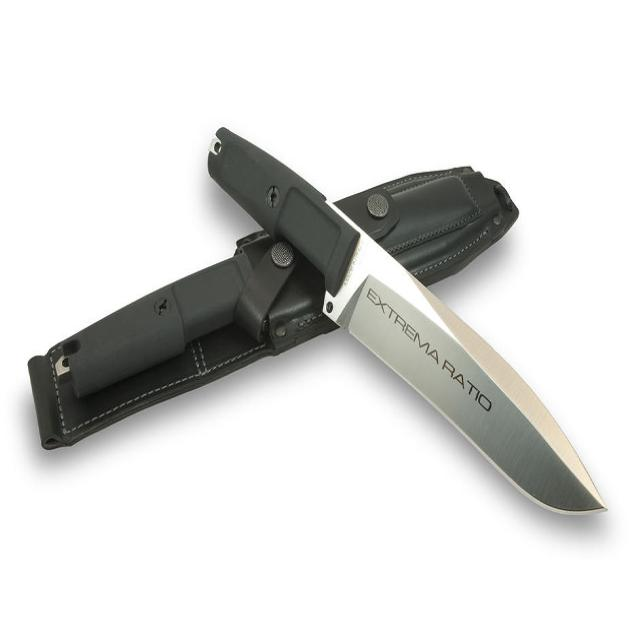knife: (208, 121, 614, 523)
